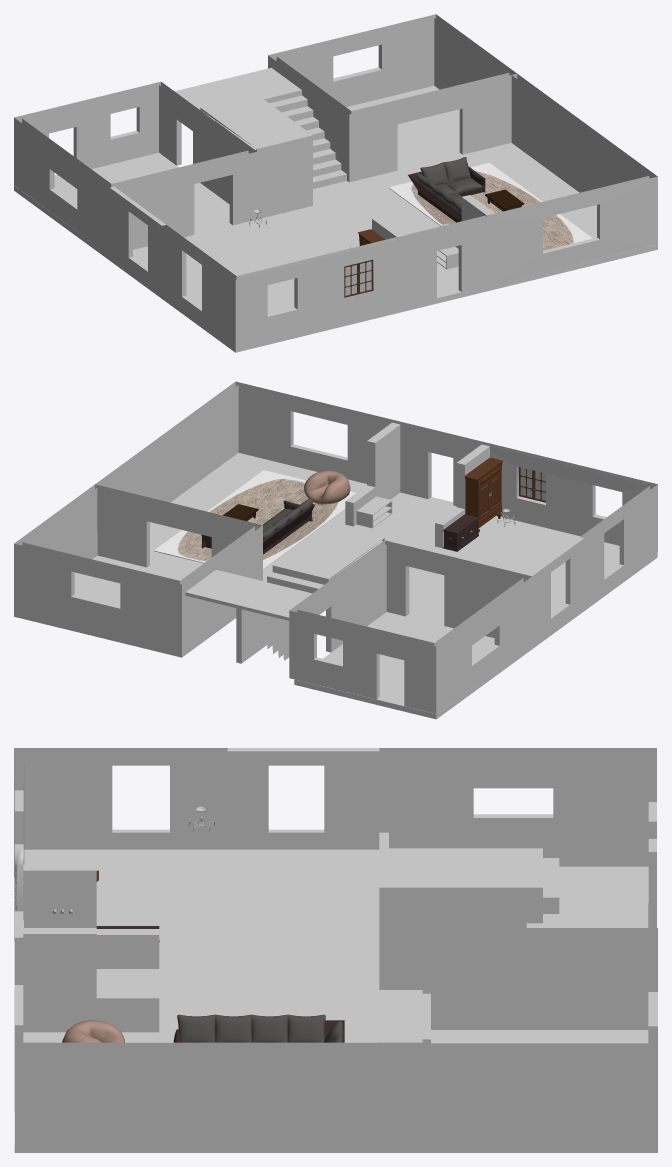
Rendered from LD_MapTestSalleAManger.fbx.
3 views of the same model, one above another, from view 1: azimuth 30°, elevation 25°; view 2: azimuth 150°, elevation 25°; view 3: azimuth 270°, elevation 25° (orthographic). The views are drawn at different scales.
Visible parts, largest first — view 1: RDC_Cuisine->ArrièreMaison_Mur, RDC_BurreauBibliotheque->ExterieurDroit_Mur, RDC_SalleAManger->ExterieurGauche_Mur.001, RDC_Salon->ExterieurDroit, RDC_EscalierVersEtage1, RDC_SalleAManger_Sol.001, RDC_Salon_Sol, Plane.003, RDC_CouloirEntree, RDC_Cuisine_Sol, RDC_BurreauBibliotheque_Sol, Tapis|Tapis_L_Tapis.blend|Dupli| (+5 smaller); view 2: RDC_Cuisine->ArrièreMaison_Mur, RDC_BurreauBibliotheque->ExterieurDroit_Mur, RDC_Salon->ExterieurDroit, RDC_SalleAManger->ExterieurGauche_Mur.001, RDC_EscalierVersEtage1, RDC_SalleAManger_Sol.001, Tapis|Tapis_L_Tapis.blend|Dupli|, RDC_Salon_Sol, RDC_Cuisine_Sol, Plane.003, RDC_BurreauBibliotheque_Sol, RDC_CouloirEntree (+7 smaller); view 3: RDC_BurreauBibliotheque->ExterieurDroit_Mur, RDC_Salon->ExterieurDroit, RDC_SalleAManger_Sol.001, RDC_SalleAManger->ExterieurGauche_Mur.001, RDC_Cuisine->ArrièreMaison_Mur, RDC_EscalierVersEtage1, RDC_CouloirEntree, RDC_Salon->Sas_Mur, RDC_SalleAManger->Sas_Mur.001, RDC_Salon_Sol, RDC_BurreauBibliotheque_Sol, Pouf|Cube_L_living_room_pouf.blend|Dupli| (+5 smaller).
Boxes of the visible parts, left/top/right/bottom form: RDC_Cuisine->ArrièreMaison_Mur: left=14, top=81, right=256, bottom=254; RDC_BurreauBibliotheque->ExterieurDroit_Mur: left=268, top=14, right=517, bottom=182; RDC_SalleAManger->ExterieurGauche_Mur.001: left=109, top=186, right=408, bottom=347; RDC_Salon->ExterieurDroit: left=487, top=74, right=657, bottom=285; RDC_EscalierVersEtage1: left=175, top=67, right=363, bottom=219; RDC_SalleAManger_Sol.001: left=109, top=213, right=408, bottom=352; RDC_Salon_Sol: left=349, top=143, right=657, bottom=290; Plane.003: left=405, top=215, right=489, bottom=304; RDC_CouloirEntree: left=283, top=193, right=489, bottom=310; RDC_Cuisine_Sol: left=14, top=153, right=232, bottom=260; RDC_BurreauBibliotheque_Sol: left=346, top=85, right=461, bottom=170; Tapis|Tapis_L_Tapis.blend|Dupli|: left=388, top=162, right=592, bottom=250; RDC_Cuisine->ArrièreMaison_Mur: left=289, top=540, right=531, bottom=713; RDC_BurreauBibliotheque->ExterieurDroit_Mur: left=14, top=484, right=262, bottom=652; RDC_Salon->ExterieurDroit: left=95, top=381, right=403, bottom=502; RDC_SalleAManger->ExterieurGauche_Mur.001: left=484, top=442, right=657, bottom=643; RDC_EscalierVersEtage1: left=185, top=524, right=384, bottom=663; RDC_SalleAManger_Sol.001: left=409, top=516, right=657, bottom=649; Tapis|Tapis_L_Tapis.blend|Dupli|: left=154, top=470, right=356, bottom=569; RDC_Salon_Sol: left=150, top=452, right=366, bottom=581; RDC_Cuisine_Sol: left=294, top=612, right=531, bottom=719; Plane.003: left=400, top=422, right=484, bottom=505; RDC_BurreauBibliotheque_Sol: left=14, top=555, right=236, bottom=657; RDC_CouloirEntree: left=350, top=492, right=456, bottom=550; RDC_BurreauBibliotheque->ExterieurDroit_Mur: left=422, top=928, right=657, bottom=1145; RDC_Salon->ExterieurDroit: left=14, top=985, right=422, bottom=1145; RDC_SalleAManger_Sol.001: left=14, top=849, right=379, bottom=968; RDC_SalleAManger->ExterieurGauche_Mur.001: left=14, top=748, right=379, bottom=941; RDC_Cuisine->ArrièreMaison_Mur: left=379, top=748, right=656, bottom=927; RDC_EscalierVersEtage1: left=379, top=848, right=648, bottom=1026; RDC_CouloirEntree: left=96, top=969, right=379, bottom=1026; RDC_Salon->Sas_Mur: left=23, top=928, right=159, bottom=1032; RDC_SalleAManger->Sas_Mur.001: left=23, top=864, right=159, bottom=968; RDC_Salon_Sol: left=14, top=1026, right=422, bottom=1152; RDC_BurreauBibliotheque_Sol: left=422, top=1030, right=657, bottom=1152; Pouf|Cube_L_living_room_pouf.blend|Dupli|: left=62, top=1020, right=124, bottom=1042.
Size of the model in its own units: 2344 by 587 by 2134.
